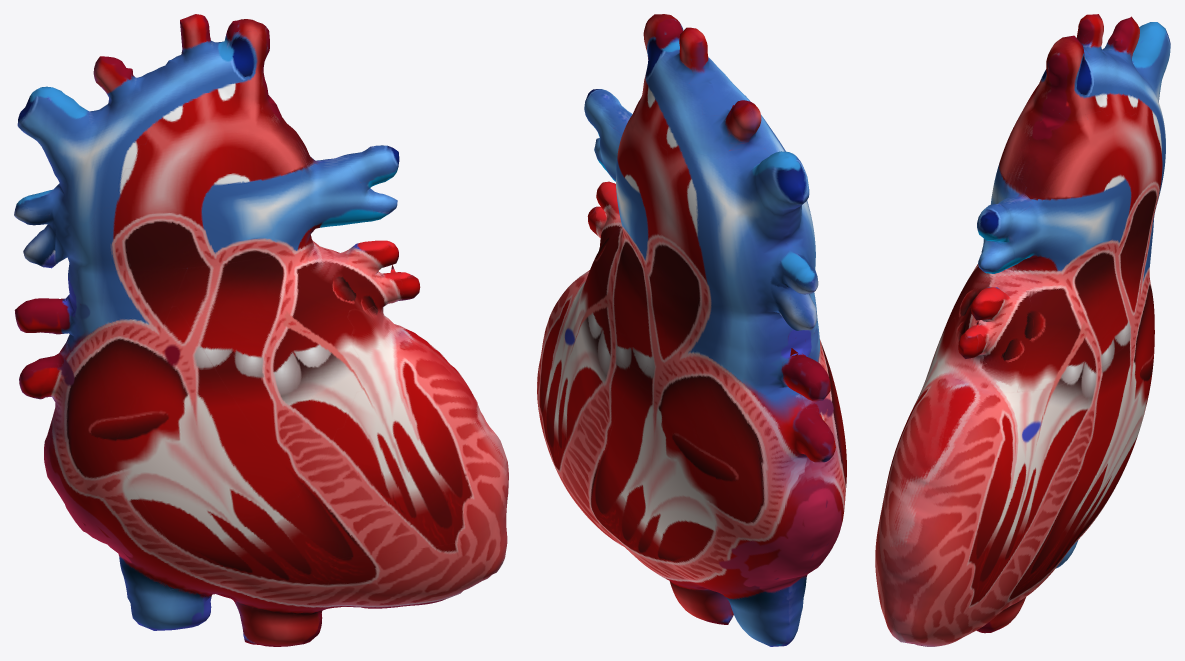
Rendered from jantung.glb.
3 renders of one model, left to right at view 1: azimuth 30°, elevation 25°; view 2: azimuth 150°, elevation 25°; view 3: azimuth 270°, elevation 25°, orthographic. The views are drawn at different scales.
Visible parts, largest first — view 1: mesh_id40; view 2: mesh_id40; view 3: mesh_id40.
Boxes of the visible parts, x1,y1,x2,y2 form: mesh_id40: (14,14,508,646); mesh_id40: (537,14,846,646); mesh_id40: (875,14,1170,646).
Size of the model in its own units: 0.2375 by 0.3613 by 0.1631.
1 material, 1 textured.
